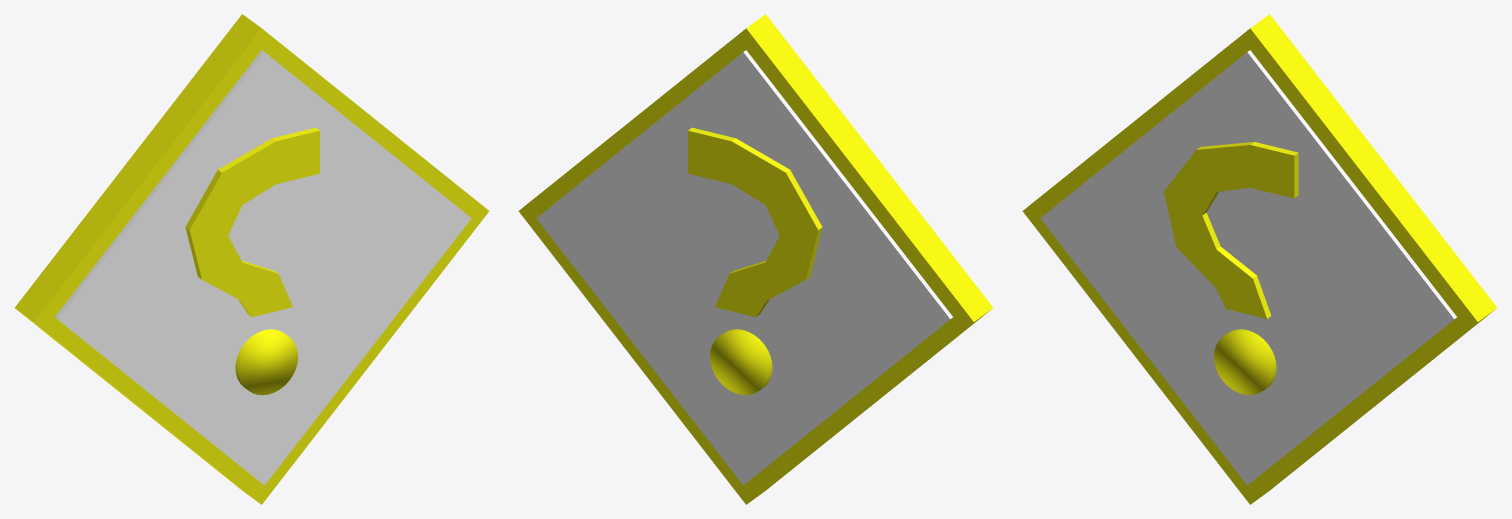
File: avatar_not_found.glb
3 renders of one model, left to right at view 1: azimuth 30°, elevation 25°; view 2: azimuth 150°, elevation 25°; view 3: azimuth 330°, elevation 25°, orthographic.
Parts seen in each view (by area): view 1: QuestionMarkInner, QuestionMarkOuter, QuestionMarkCurve, QuestionMarkDot; view 2: QuestionMarkInner, QuestionMarkOuter, QuestionMarkCurve, QuestionMarkDot; view 3: QuestionMarkInner, QuestionMarkOuter, QuestionMarkCurve, QuestionMarkDot.
Part boxes in pixels (x1,y1,x2,y2): QuestionMarkInner: (55,50,471,485); QuestionMarkOuter: (14,14,489,504); QuestionMarkCurve: (185,127,319,316); QuestionMarkDot: (235,329,298,395); QuestionMarkInner: (536,50,952,485); QuestionMarkOuter: (518,14,993,504); QuestionMarkCurve: (688,127,822,316); QuestionMarkDot: (709,329,772,395); QuestionMarkInner: (1040,50,1456,485); QuestionMarkOuter: (1022,14,1497,504); QuestionMarkCurve: (1164,142,1298,318); QuestionMarkDot: (1213,329,1276,395).
Bounding box in the file's own units: 3.11 × 3.11 × 0.4.
